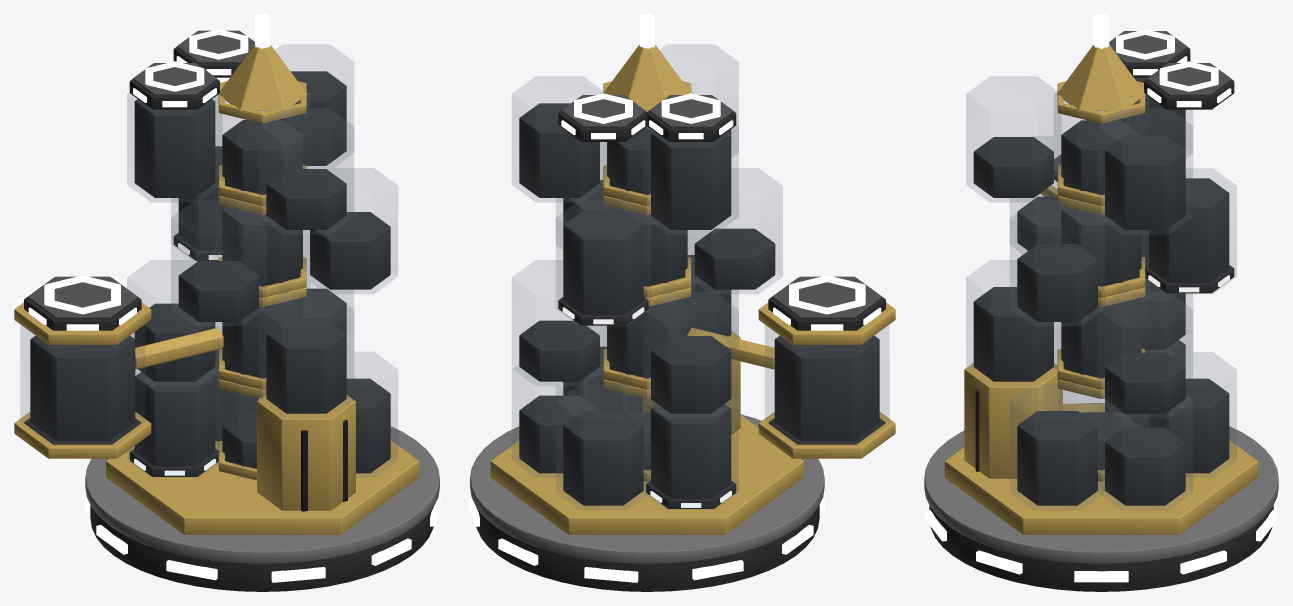
Rendered from Skin_Hive_T1.glb.
3 views of the same model, side by side, from view 1: azimuth 30°, elevation 25°; view 2: azimuth 150°, elevation 25°; view 3: azimuth 270°, elevation 25° (orthographic).
Visible parts, largest first — view 1: Skin_Hive_T1; view 2: Skin_Hive_T1; view 3: Skin_Hive_T1.
Boxes of the visible parts, <box> form: Skin_Hive_T1: <box>14,14,440,591</box>; Skin_Hive_T1: <box>469,14,895,591</box>; Skin_Hive_T1: <box>924,14,1278,591</box>.
Size of the model in its own units: 4.39 by 5.48 by 3.5.
